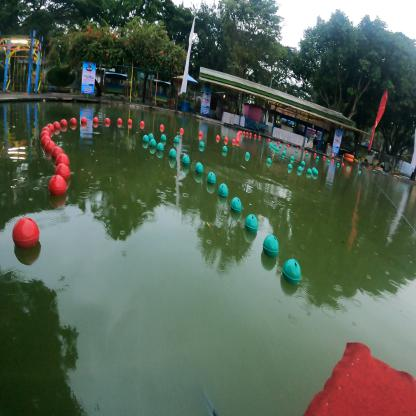green_buoy: (282, 252, 303, 274), (262, 232, 280, 246), (230, 195, 242, 207), (244, 213, 258, 223), (217, 183, 229, 193), (206, 170, 217, 180), (181, 153, 191, 163), (193, 161, 204, 170), (168, 146, 177, 156), (156, 141, 164, 150), (149, 138, 157, 146), (142, 134, 149, 142), (173, 135, 180, 142), (148, 132, 154, 139), (160, 133, 166, 140), (222, 145, 228, 151), (287, 162, 293, 168), (297, 166, 303, 172), (200, 140, 204, 148), (245, 151, 250, 157), (266, 156, 272, 161), (306, 168, 312, 173), (313, 170, 319, 174), (281, 150, 286, 154), (312, 166, 316, 171), (305, 152, 309, 156), (346, 166, 350, 170), (275, 147, 279, 150), (290, 156, 294, 159), (327, 159, 330, 163), (301, 161, 305, 164), (336, 163, 340, 166), (274, 143, 277, 146), (316, 156, 319, 159), (358, 170, 361, 173), (271, 144, 273, 148), (284, 146, 288, 148), (270, 142, 272, 145), (270, 143, 272, 146), (279, 144, 281, 147), (273, 146, 276, 148), (295, 150, 298, 152), (269, 143, 271, 145)
red_buoy: (12, 216, 40, 241), (48, 174, 67, 193), (53, 162, 71, 178), (55, 153, 70, 166), (44, 140, 57, 152), (51, 146, 64, 157), (41, 135, 51, 145), (39, 131, 51, 139), (41, 126, 51, 134), (45, 123, 55, 130), (104, 116, 111, 124), (60, 118, 68, 125), (53, 121, 61, 128), (92, 116, 99, 123), (70, 117, 77, 124), (81, 116, 87, 123), (139, 120, 145, 126), (117, 118, 122, 124), (127, 119, 133, 124), (198, 130, 203, 136), (215, 134, 221, 138), (179, 128, 184, 132), (223, 136, 228, 140), (160, 124, 164, 128), (331, 158, 335, 162), (235, 138, 240, 141), (249, 132, 252, 136), (236, 134, 240, 137), (236, 136, 240, 139), (232, 139, 236, 142), (286, 144, 290, 147), (341, 162, 344, 166), (238, 130, 241, 133), (246, 132, 249, 135), (254, 134, 257, 137), (258, 135, 261, 138), (277, 141, 280, 144), (296, 147, 299, 150), (305, 150, 308, 153), (314, 153, 317, 156), (240, 130, 242, 134), (323, 155, 325, 159), (243, 131, 245, 134), (237, 132, 240, 134), (237, 133, 240, 135), (268, 138, 270, 141)
